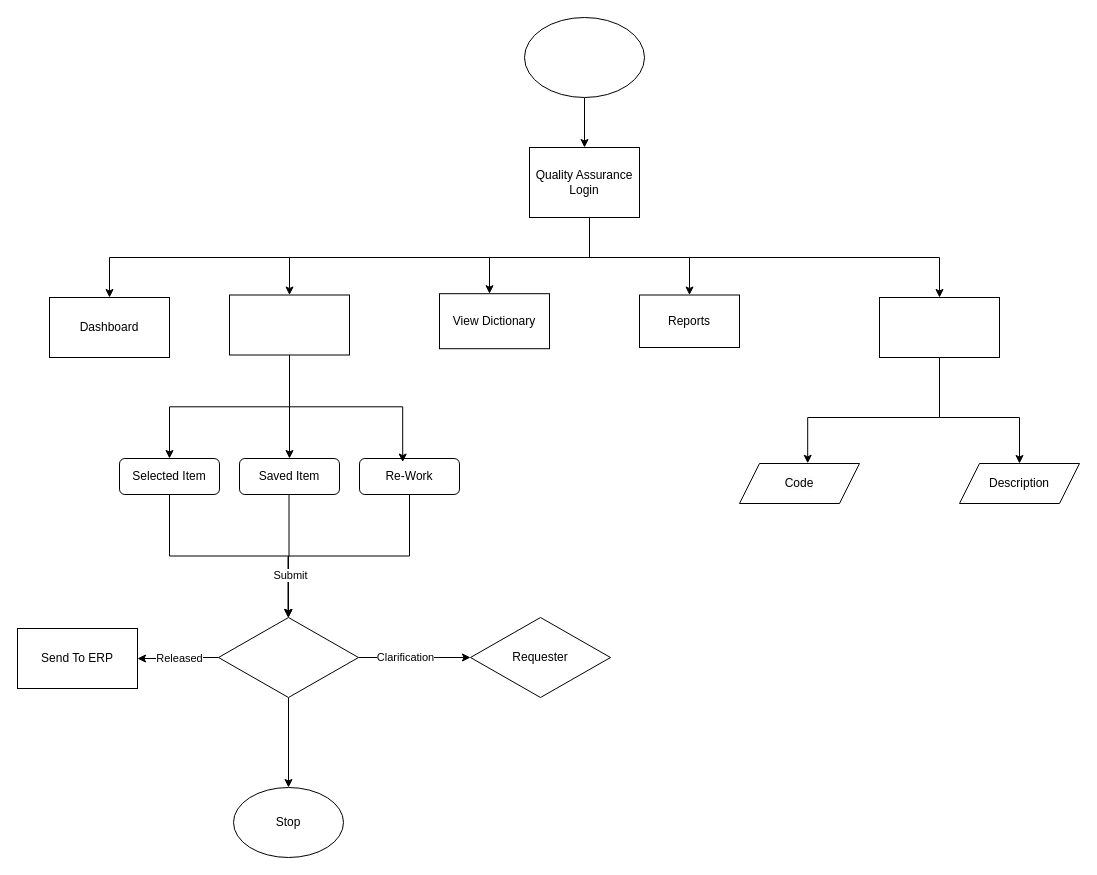
The diagram is 1097 pixels wide and 875 high, and some of its shapes have lost their labels. The box of each missing label's shape, as (x1, y1, x2, y2) in pixels:
Quality Assurance: (228, 294, 350, 355)
Quality Assurance Action: (218, 616, 358, 698)
Service Search: (878, 296, 1000, 358)
Start: (524, 16, 644, 98)
